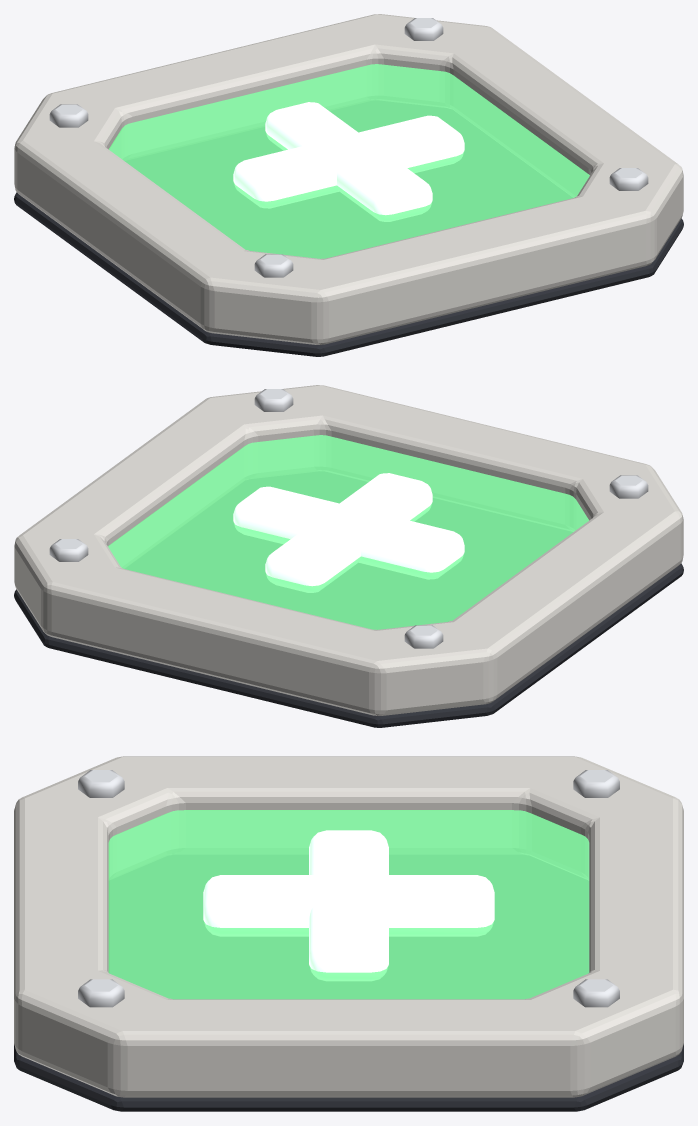
Rendered from close_traps.glb.
The picture shows the model from 3 angles, top to bottom: view 1: azimuth 30°, elevation 25°; view 2: azimuth 150°, elevation 25°; view 3: azimuth 270°, elevation 25°; orthographic projection. The views are drawn at different scales.
Parts seen in each view (by area): view 1: close_traps; view 2: close_traps; view 3: close_traps.
Part boxes in pixels (left/top/right/bottom): close_traps: left=14, top=14, right=683, bottom=356; close_traps: left=14, top=385, right=683, bottom=727; close_traps: left=14, top=756, right=683, bottom=1111.
Size of the model in its own units: 0.46 by 0.07 by 0.46.
